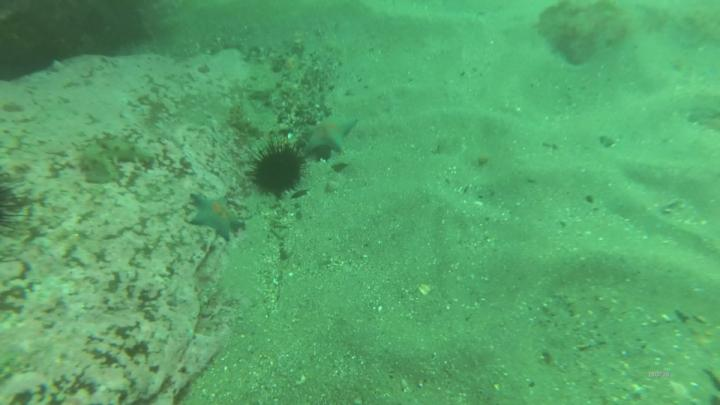echinus: (250, 142, 305, 198)
holothurian: (73, 130, 157, 180)
starfish: (188, 190, 245, 241), (302, 112, 359, 157)
